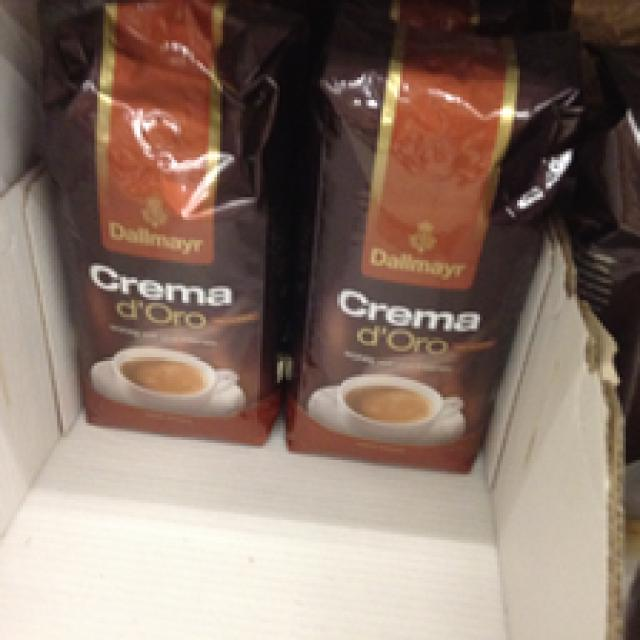groceries: (277, 3, 583, 480), (34, 0, 277, 449)
